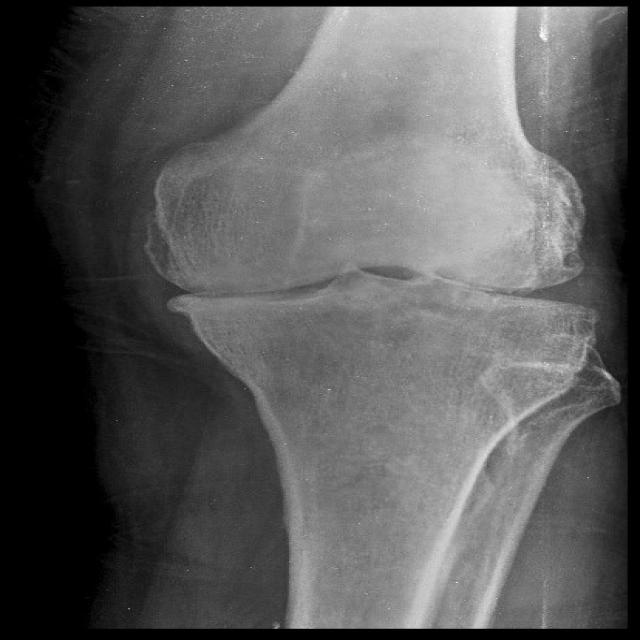osteo: (140, 144, 600, 358)
